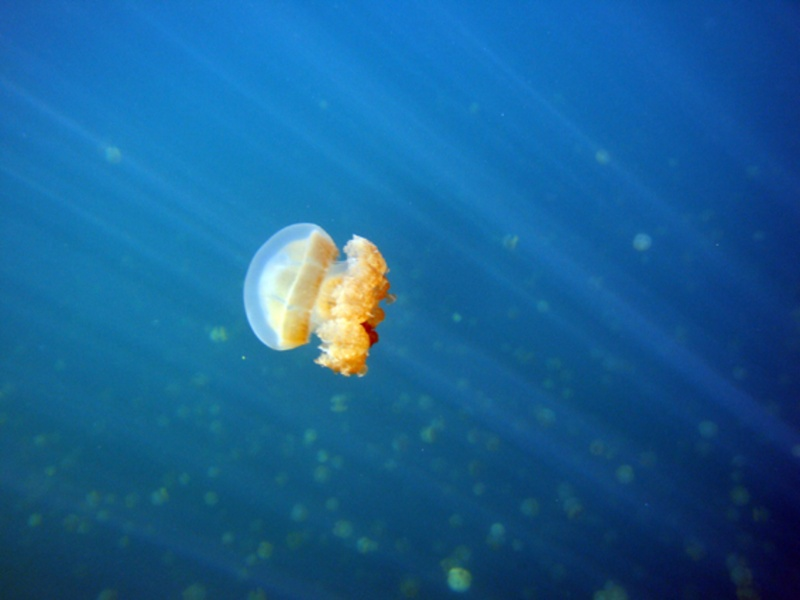Jellyfish: (242, 210, 395, 377)
